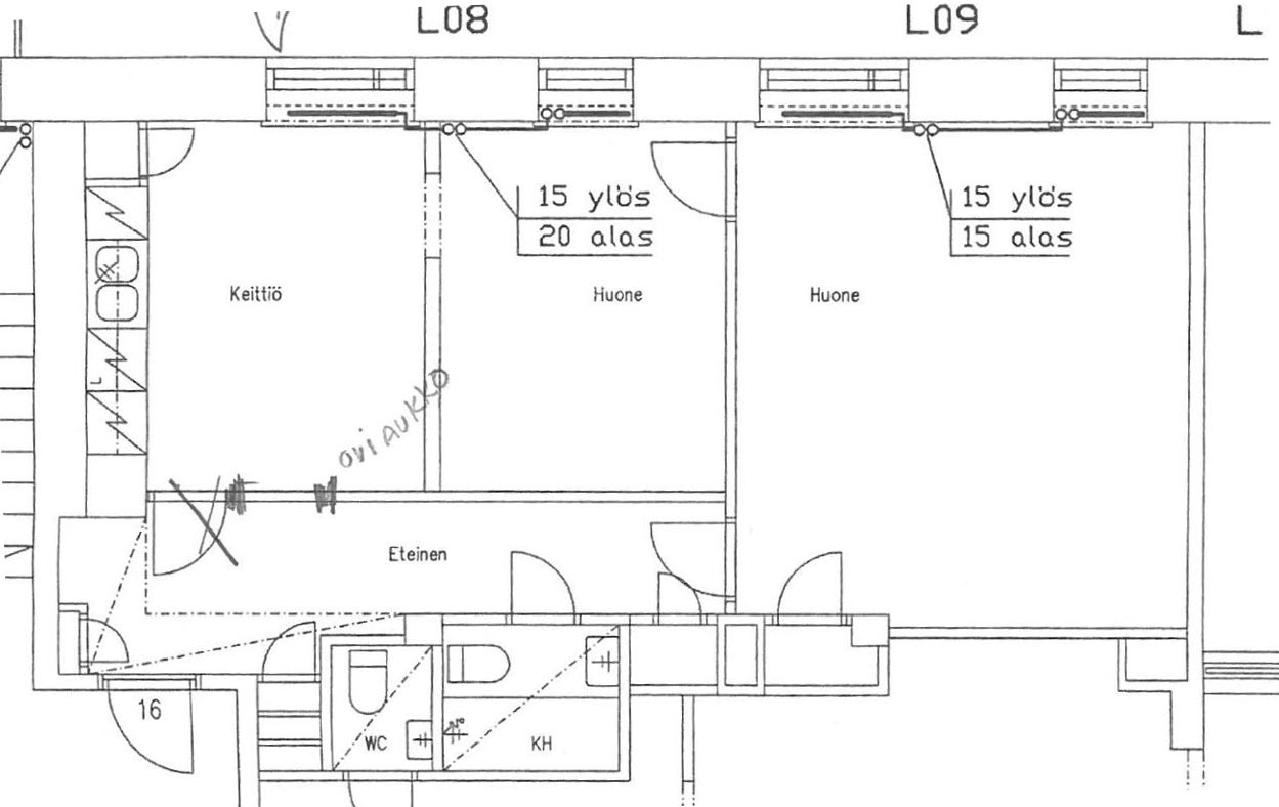door: (103, 672, 205, 783), (648, 134, 748, 226), (645, 520, 737, 599), (503, 547, 581, 636), (776, 541, 847, 632), (153, 492, 230, 570), (55, 605, 138, 670), (254, 624, 316, 680), (135, 124, 196, 177), (654, 570, 706, 626)
window: (761, 59, 906, 126), (262, 57, 410, 120), (535, 55, 637, 124), (1055, 60, 1147, 124), (1202, 656, 1279, 695)
zone: (738, 120, 1187, 624), (30, 122, 414, 482), (57, 500, 722, 693), (633, 623, 1209, 807), (446, 123, 726, 489), (1208, 119, 1279, 651), (443, 627, 610, 768)
